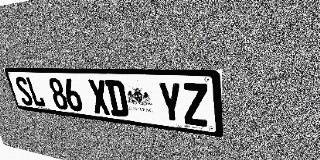6: (61, 78, 84, 112)
8: (47, 78, 69, 110)
D: (105, 80, 129, 117)
L: (25, 77, 46, 107)
S: (14, 76, 34, 106)
X: (87, 79, 111, 115)
Y: (157, 82, 184, 124)
Z: (181, 82, 209, 127)
